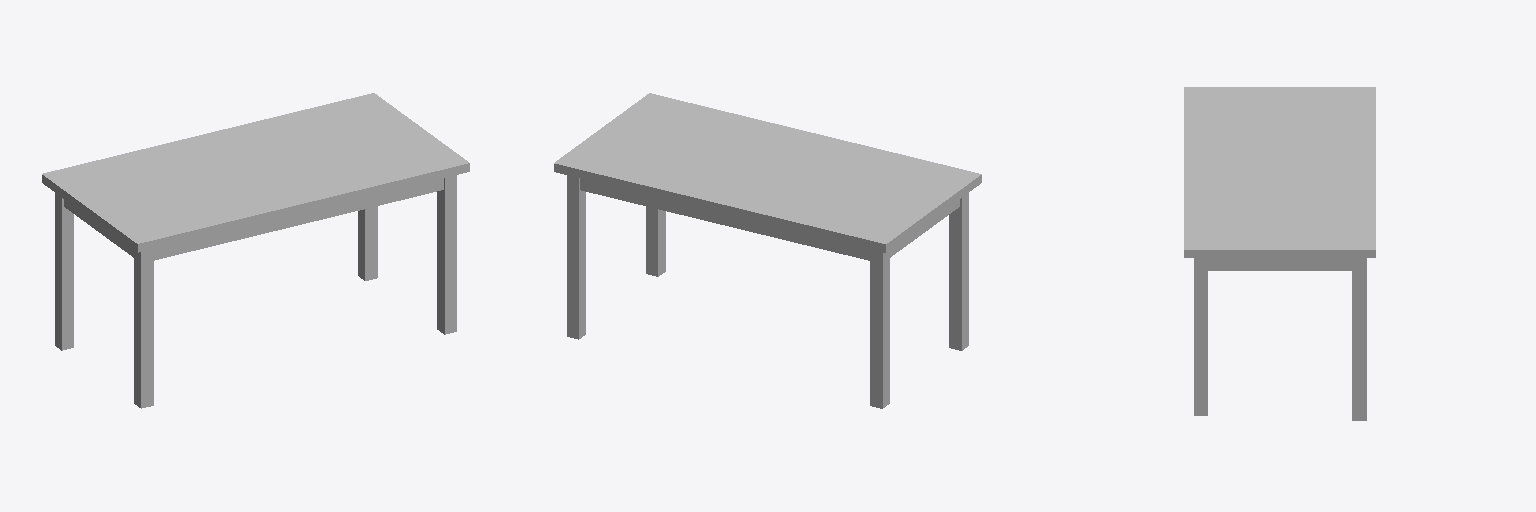
File: normal.obj
The picture shows the model from 3 angles: view 1: azimuth 30°, elevation 25°; view 2: azimuth 150°, elevation 25°; view 3: azimuth 270°, elevation 25°; orthographic projection.
Parts seen in each view (by area): view 1: Mesh01, Group2; view 2: Mesh01, Group2; view 3: Mesh01, Group2.
Part boxes in pixels (x1,y1,x2,y2): Mesh01: (42, 93, 469, 252); Group2: (55, 175, 456, 408); Mesh01: (554, 93, 981, 252); Group2: (567, 175, 968, 408); Mesh01: (1184, 87, 1375, 257); Group2: (1194, 258, 1366, 420).
Size of the model in its own units: 5.53 by 2.78 by 2.78.